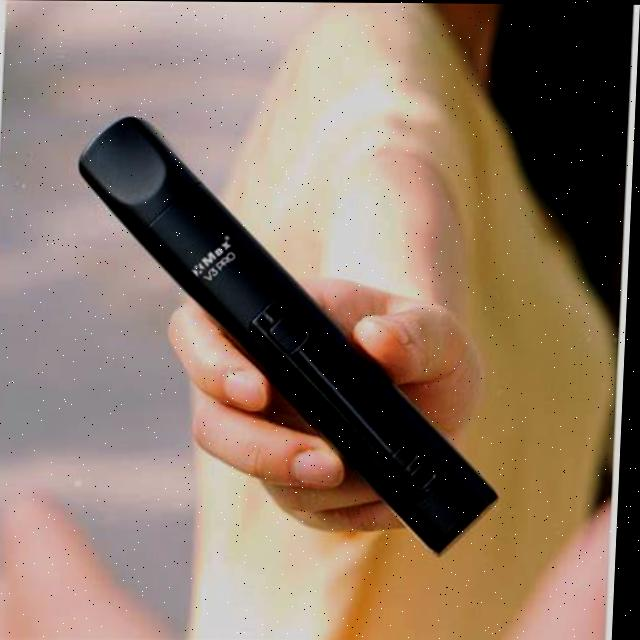vape: (64, 110, 521, 561)
